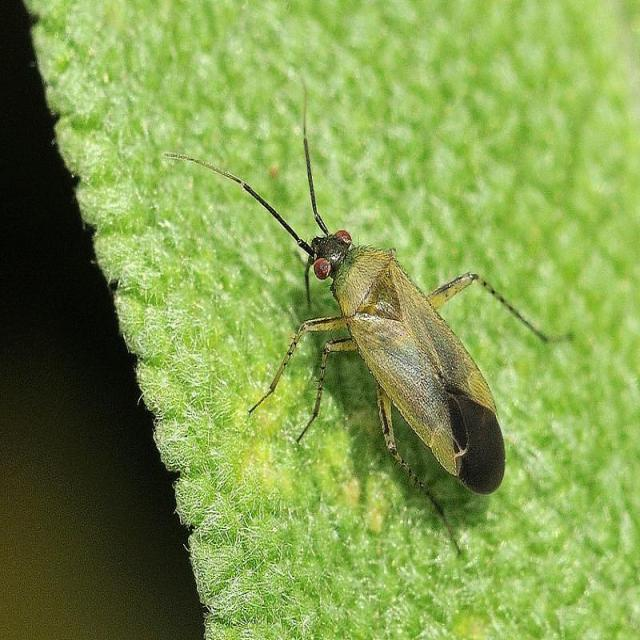Miridae-Adult-: (210, 68, 552, 544)
